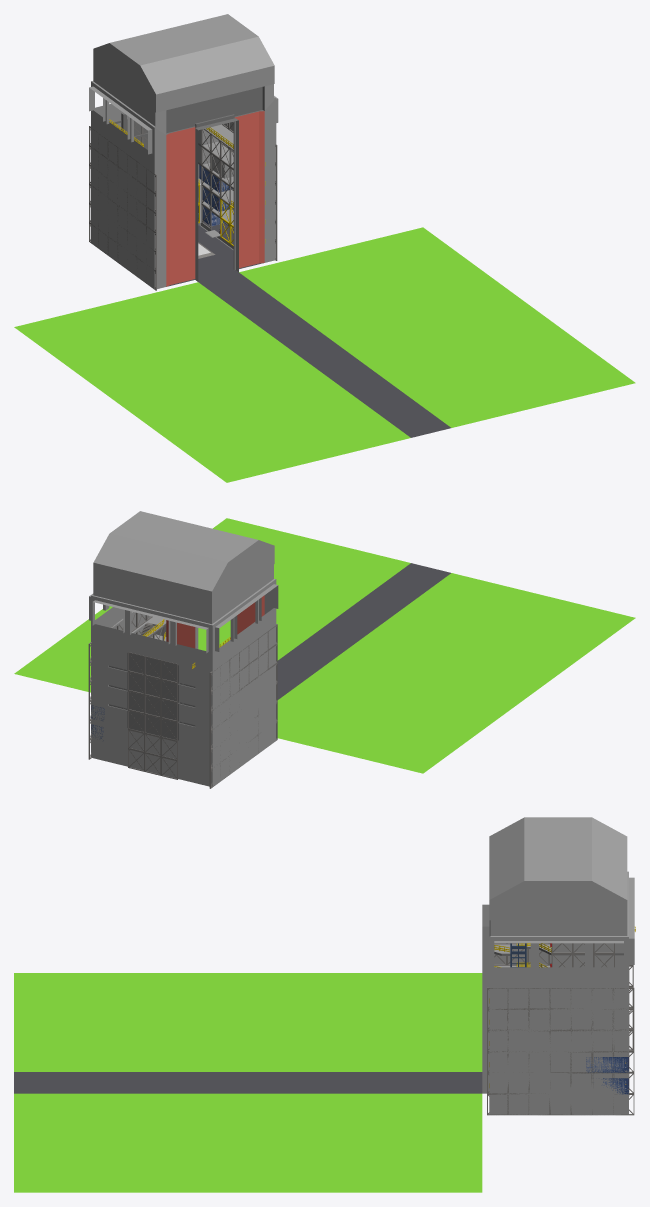
The picture shows the model from 3 angles, top to bottom: view 1: azimuth 30°, elevation 25°; view 2: azimuth 150°, elevation 25°; view 3: azimuth 270°, elevation 25°; orthographic projection. The views are drawn at different scales.
Visible parts, largest first — view 1: Base, Structure.012, Structure.005; view 2: Base, Structure.001, Structure.012, Structure.013; view 3: Base, Structure.013, Cube.003, Container.001, Cube.004.
Part boxes in pixels (box(x1,y1,x2,y2)): Base: box(14, 14, 635, 482); Structure.012: box(89, 126, 156, 290); Structure.005: box(201, 128, 233, 188); Base: box(14, 511, 635, 786); Structure.001: box(128, 652, 178, 779); Structure.012: box(209, 624, 277, 788); Structure.013: box(88, 612, 155, 759); Base: box(14, 817, 634, 1192); Structure.013: box(487, 987, 634, 1115); Cube.003: box(552, 955, 613, 967); Container.001: box(586, 1057, 628, 1072); Cube.004: box(552, 943, 623, 953).
Size of the model in its own units: 22200 by 11156 by 26562.
18 materials, 7 textured.
